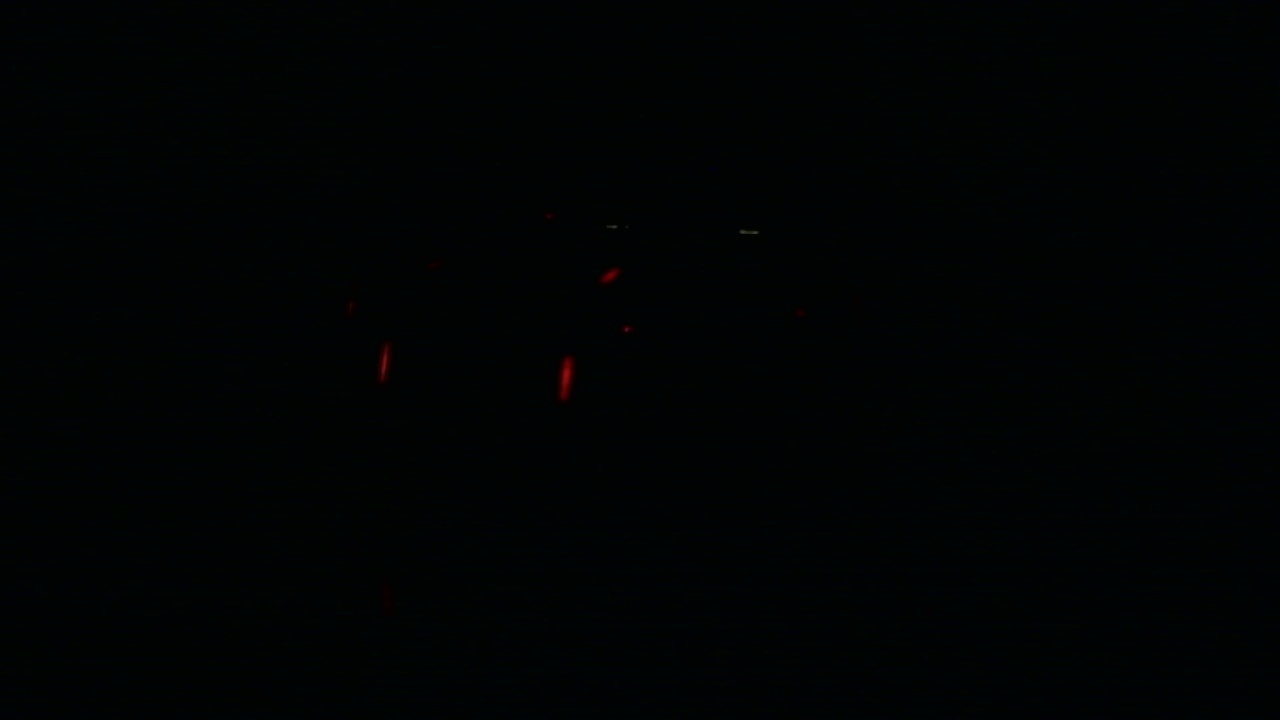lamp: (557, 341, 571, 398), (376, 342, 387, 397)
pair2: (378, 343, 574, 400)
